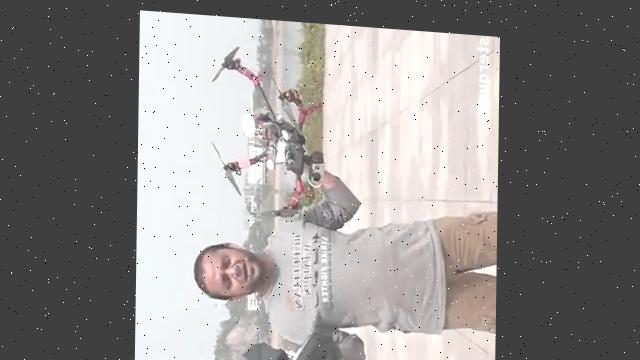drone: (205, 38, 328, 218)
